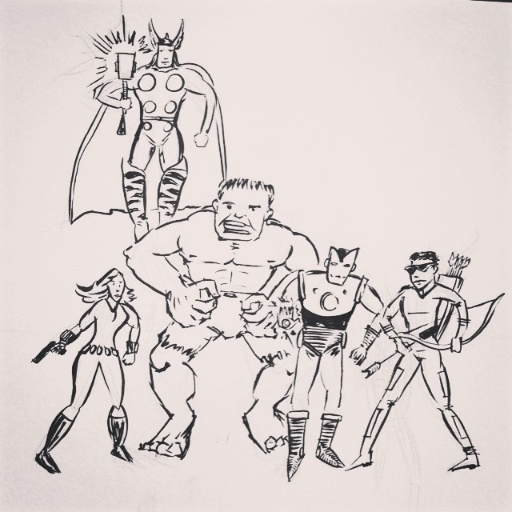hand: (166, 277, 220, 329), (238, 292, 280, 336), (272, 303, 300, 329), (190, 129, 209, 147), (348, 343, 365, 363), (116, 94, 132, 112), (395, 340, 412, 355), (51, 340, 67, 355), (122, 349, 136, 366), (451, 335, 462, 353)
